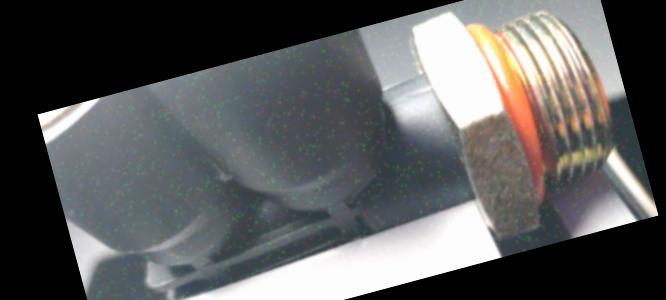joint line: (386, 97, 409, 108)
white mark: (399, 82, 430, 98)
